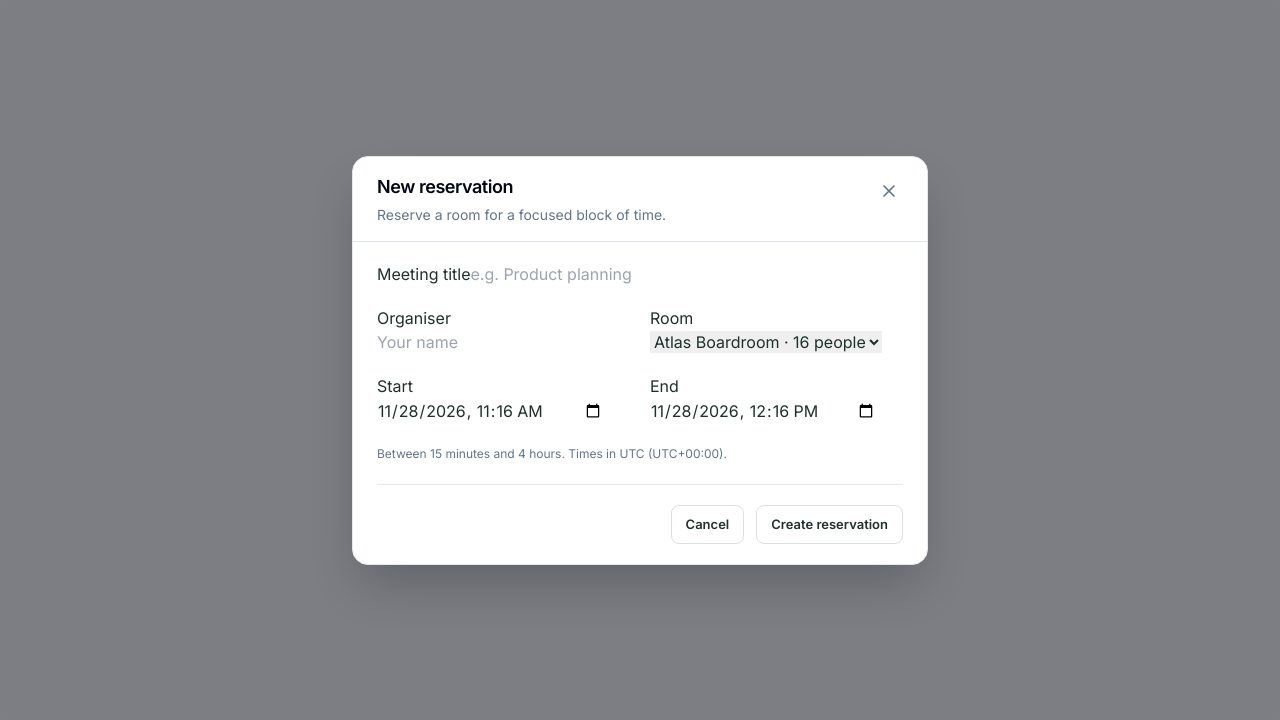
BookingForm › shows validation errors without calling the API
Step 1. Click the button "Create reservation" → (830, 524), box top-left (756, 504), bottom-right (903, 544)
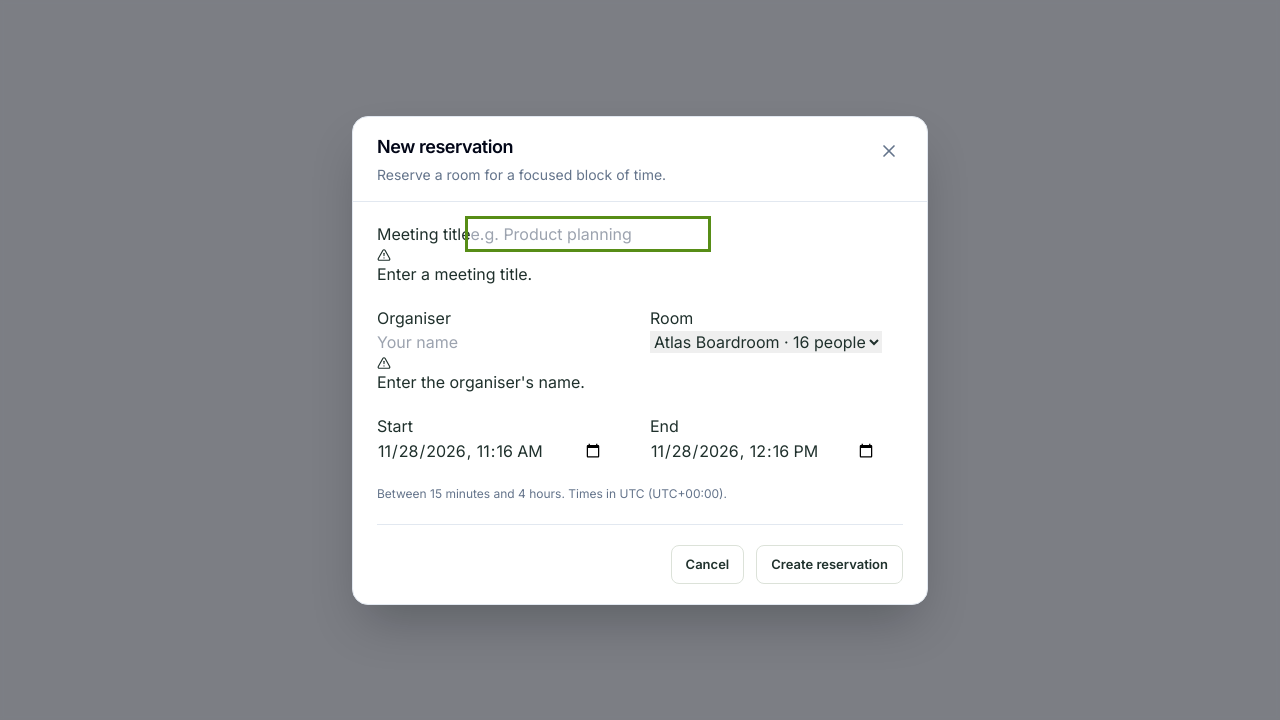
Expected: the text "Enter a meeting title." is shown, top-left (377, 248), bottom-right (532, 284)
Expected: the text "Enter the organiser's name." is shown, top-left (377, 356), bottom-right (585, 392)
